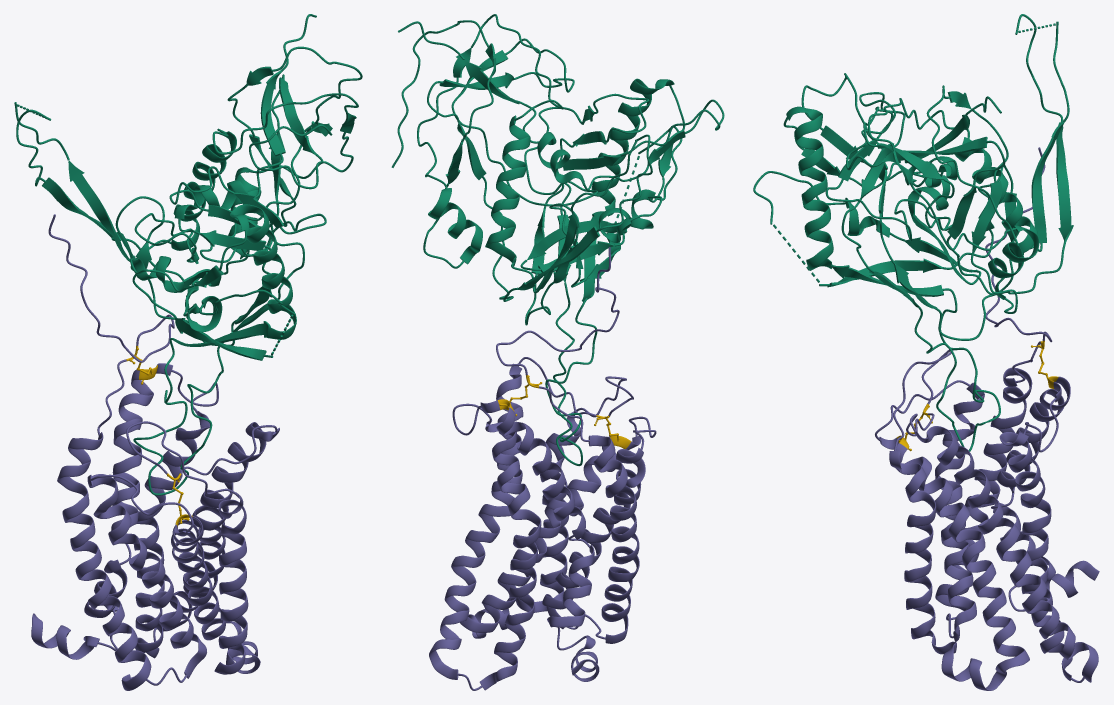
File: 6MEO.glb
The picture shows the model from 3 angles, left to right: view 1: azimuth 30°, elevation 25°; view 2: azimuth 150°, elevation 25°; view 3: azimuth 270°, elevation 25°; orthographic projection. The views are drawn at different scales.
Visible parts, largest first — view 1: Mesh_0, Mesh_1; view 2: Mesh_0, Mesh_1; view 3: Mesh_0, Mesh_1.
Part boxes in pixels (bbox=[...]): Mesh_0: bbox=[31, 214, 279, 690]; Mesh_1: bbox=[14, 14, 362, 495]; Mesh_0: bbox=[429, 247, 656, 690]; Mesh_1: bbox=[391, 14, 724, 466]; Mesh_0: bbox=[875, 147, 1099, 690]; Mesh_1: bbox=[753, 14, 1073, 454].
Bounding box in the file's own units: 61.62 × 128 × 62.66.
